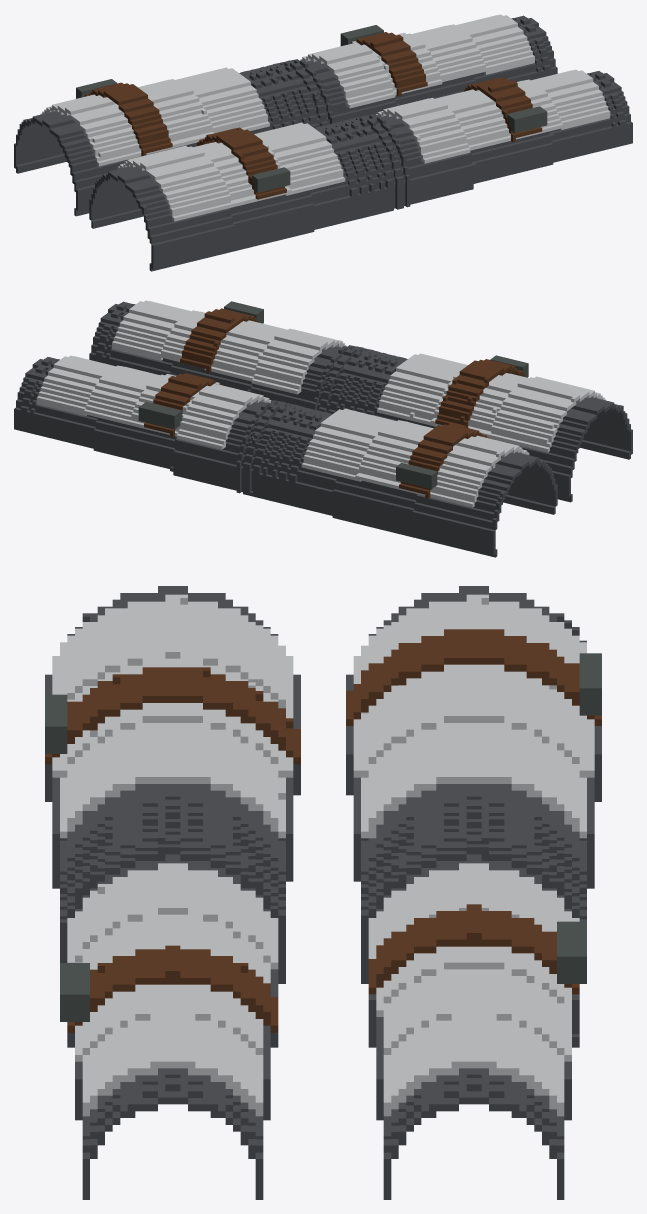
File: leg_guard_steel_light.glb
The picture shows the model from 3 angles, top to bottom: view 1: azimuth 30°, elevation 25°; view 2: azimuth 150°, elevation 25°; view 3: azimuth 270°, elevation 25°; orthographic projection. The views are drawn at different scales.
Parts seen in each view (by area): view 1: leg_guard_steel_light:compound; view 2: leg_guard_steel_light:compound; view 3: leg_guard_steel_light:compound.
Part boxes in pixels (x1,y1,x2,y2): leg_guard_steel_light:compound: [14, 14, 632, 271]; leg_guard_steel_light:compound: [14, 300, 632, 557]; leg_guard_steel_light:compound: [45, 586, 601, 1199].
Bounding box in the file's own units: 0.6 × 0.096 × 0.296.
